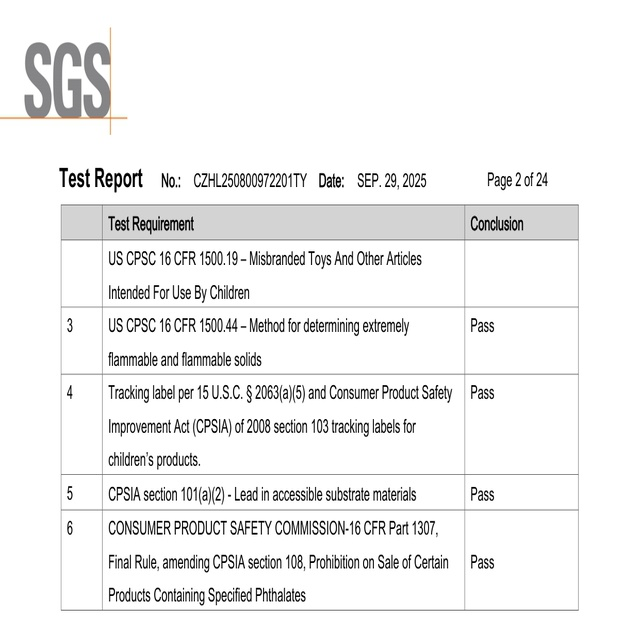sgs: (24, 42, 112, 118)
